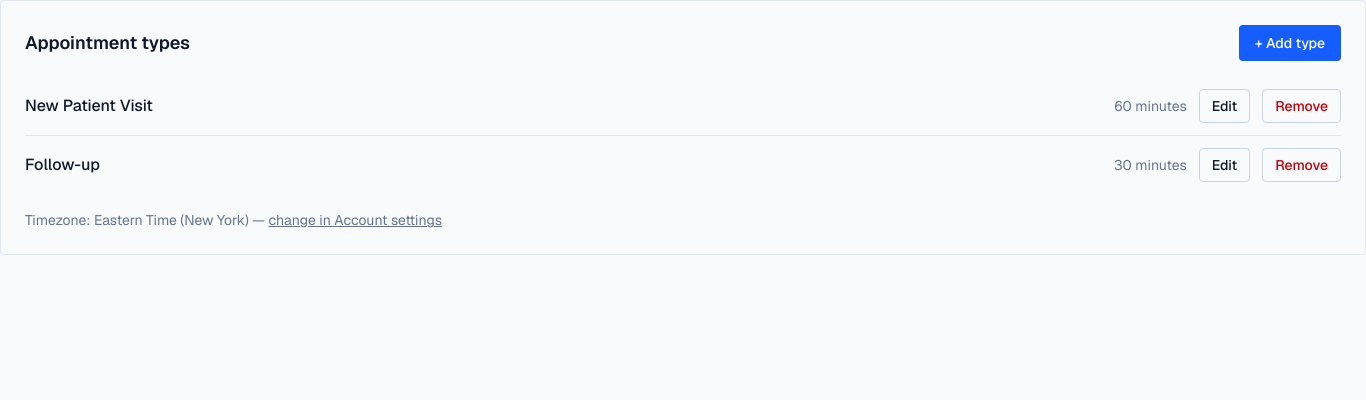
Test: AppointmentTypesSection › adds a new appointment type: opens the form focused with 60 minutes preselected, validates the name inline, then POSTs and shows the new row
Click the button "+ Add type": [1290, 43] box [1239,25,1341,61]
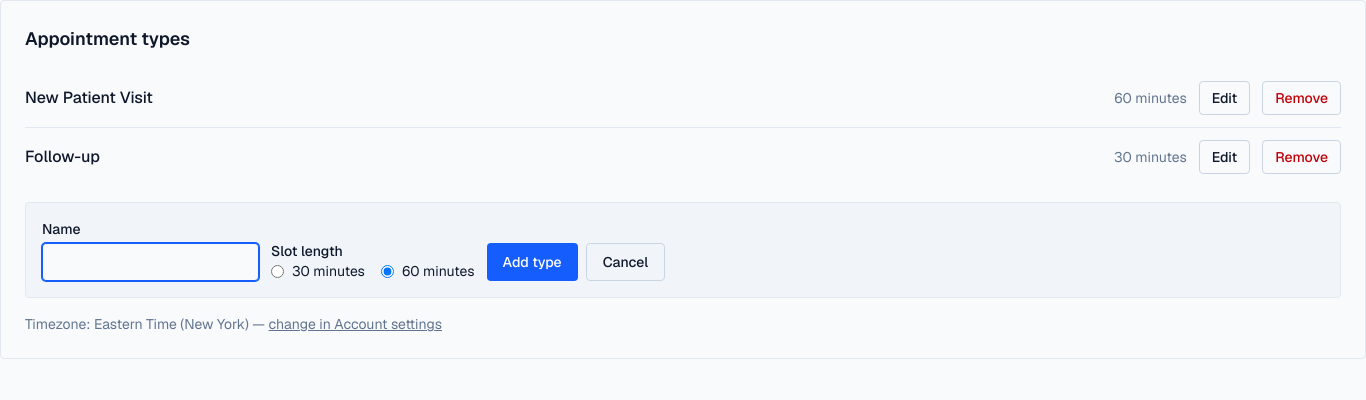
Check: the radio button labelled "60 minutes" is checked, box [381,264,394,278]
Check: the radio button labelled "30 minutes" is not checked, box [271,264,284,278]
Click the button "Add type": [532, 262] box [486,243,578,281]
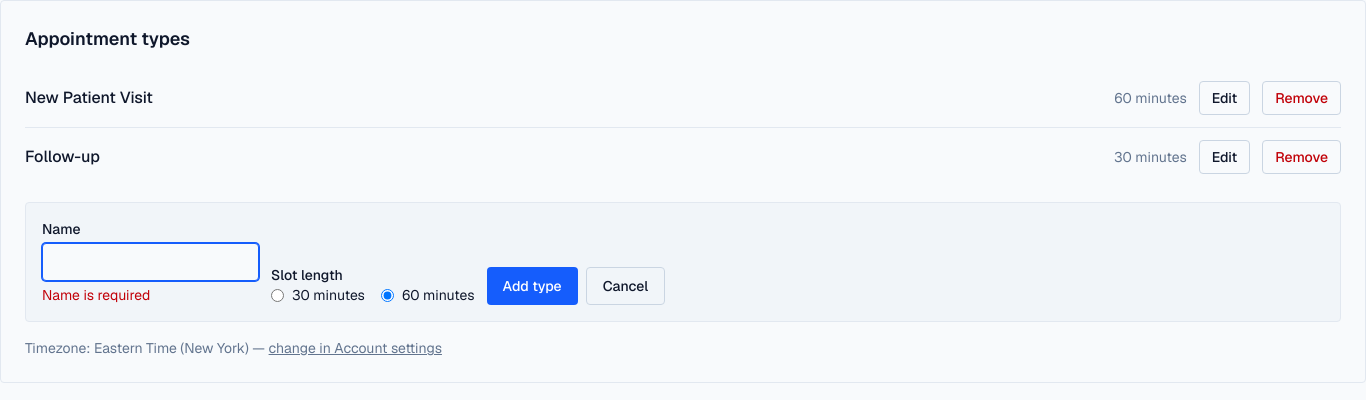
Check: the text "Name is required" is shown, box [42,286,150,304]
In the field labelled "Name": [150, 262] box [42,243,259,281], type "Lab Review"
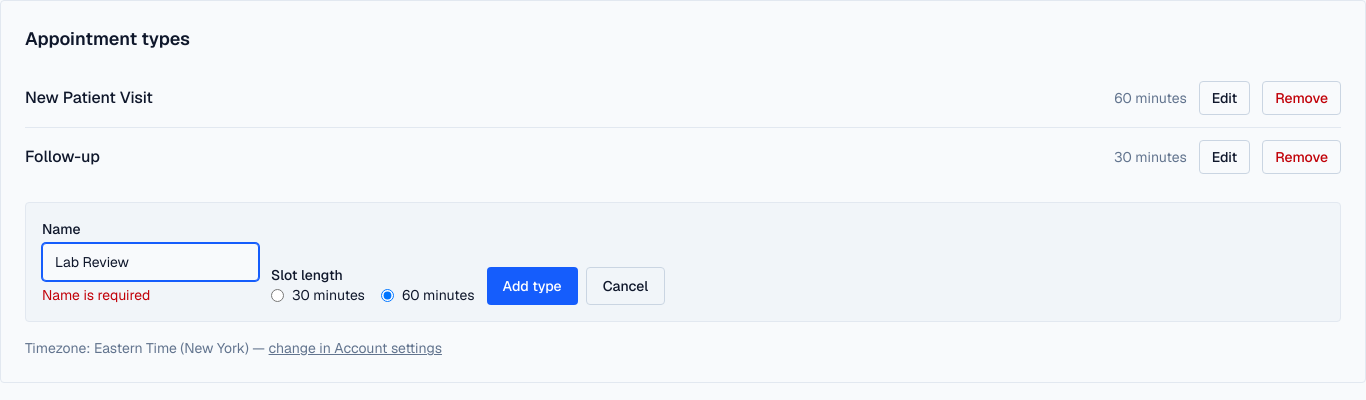
Click the button "Add type": [532, 286] box [486,267,578,305]
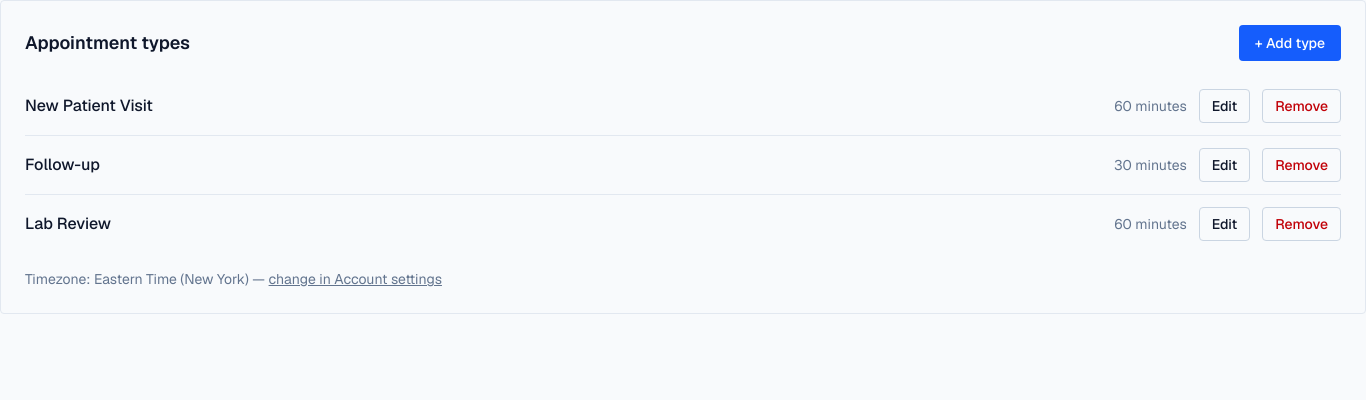
Check: the text "Lab Review" is shown, box [25,212,111,236]
Check: the text "60 minutes" is shown 2 times, box [1114,96,1187,116]; [1114,214,1187,234]
